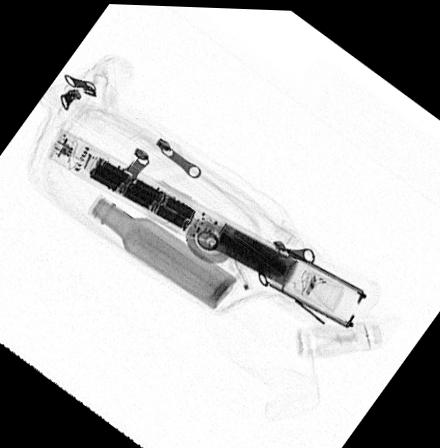Baton: (45, 128, 369, 328)
